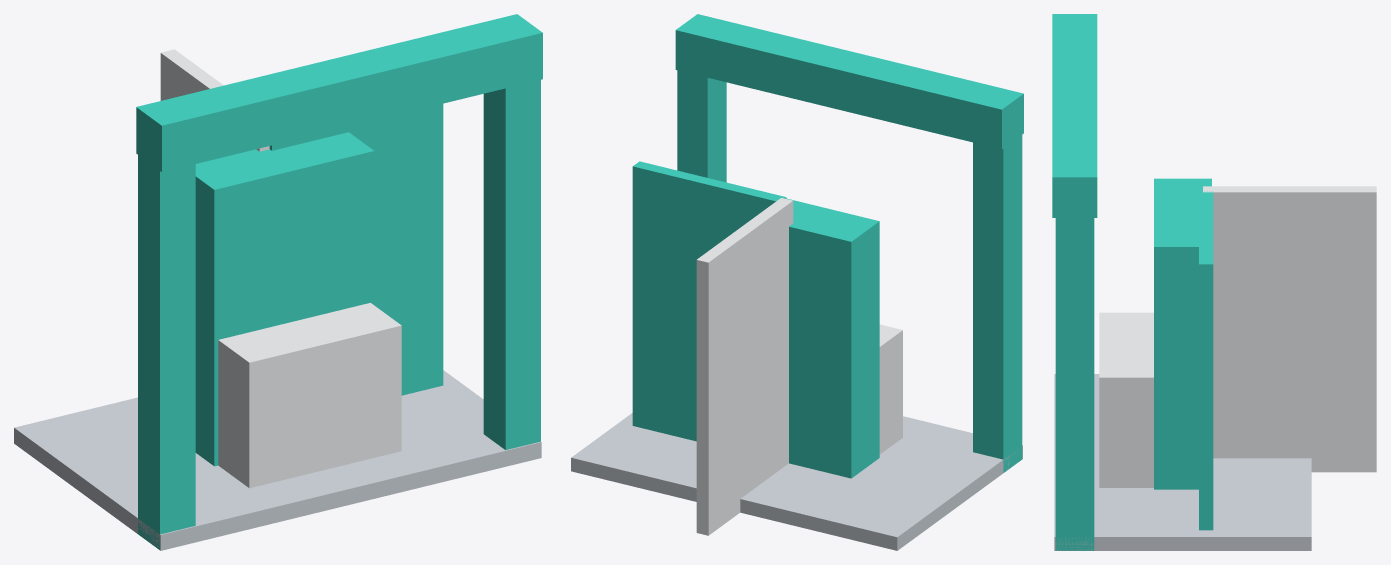
3 renders of one model, left to right at view 1: azimuth 30°, elevation 25°; view 2: azimuth 150°, elevation 25°; view 3: azimuth 270°, elevation 25°, orthographic. The views are drawn at different scales.
Visible parts, largest first — view 1: Exhibition Booth Concept; view 2: Exhibition Booth Concept; view 3: Exhibition Booth Concept.
Boxes of the visible parts, left/top/right/bottom form: Exhibition Booth Concept: left=14, top=14, right=542, bottom=550; Exhibition Booth Concept: left=571, top=14, right=1023, bottom=550; Exhibition Booth Concept: left=1052, top=14, right=1376, bottom=550.
Bounding box in the file's own units: 3 × 3.2 × 2.52.
